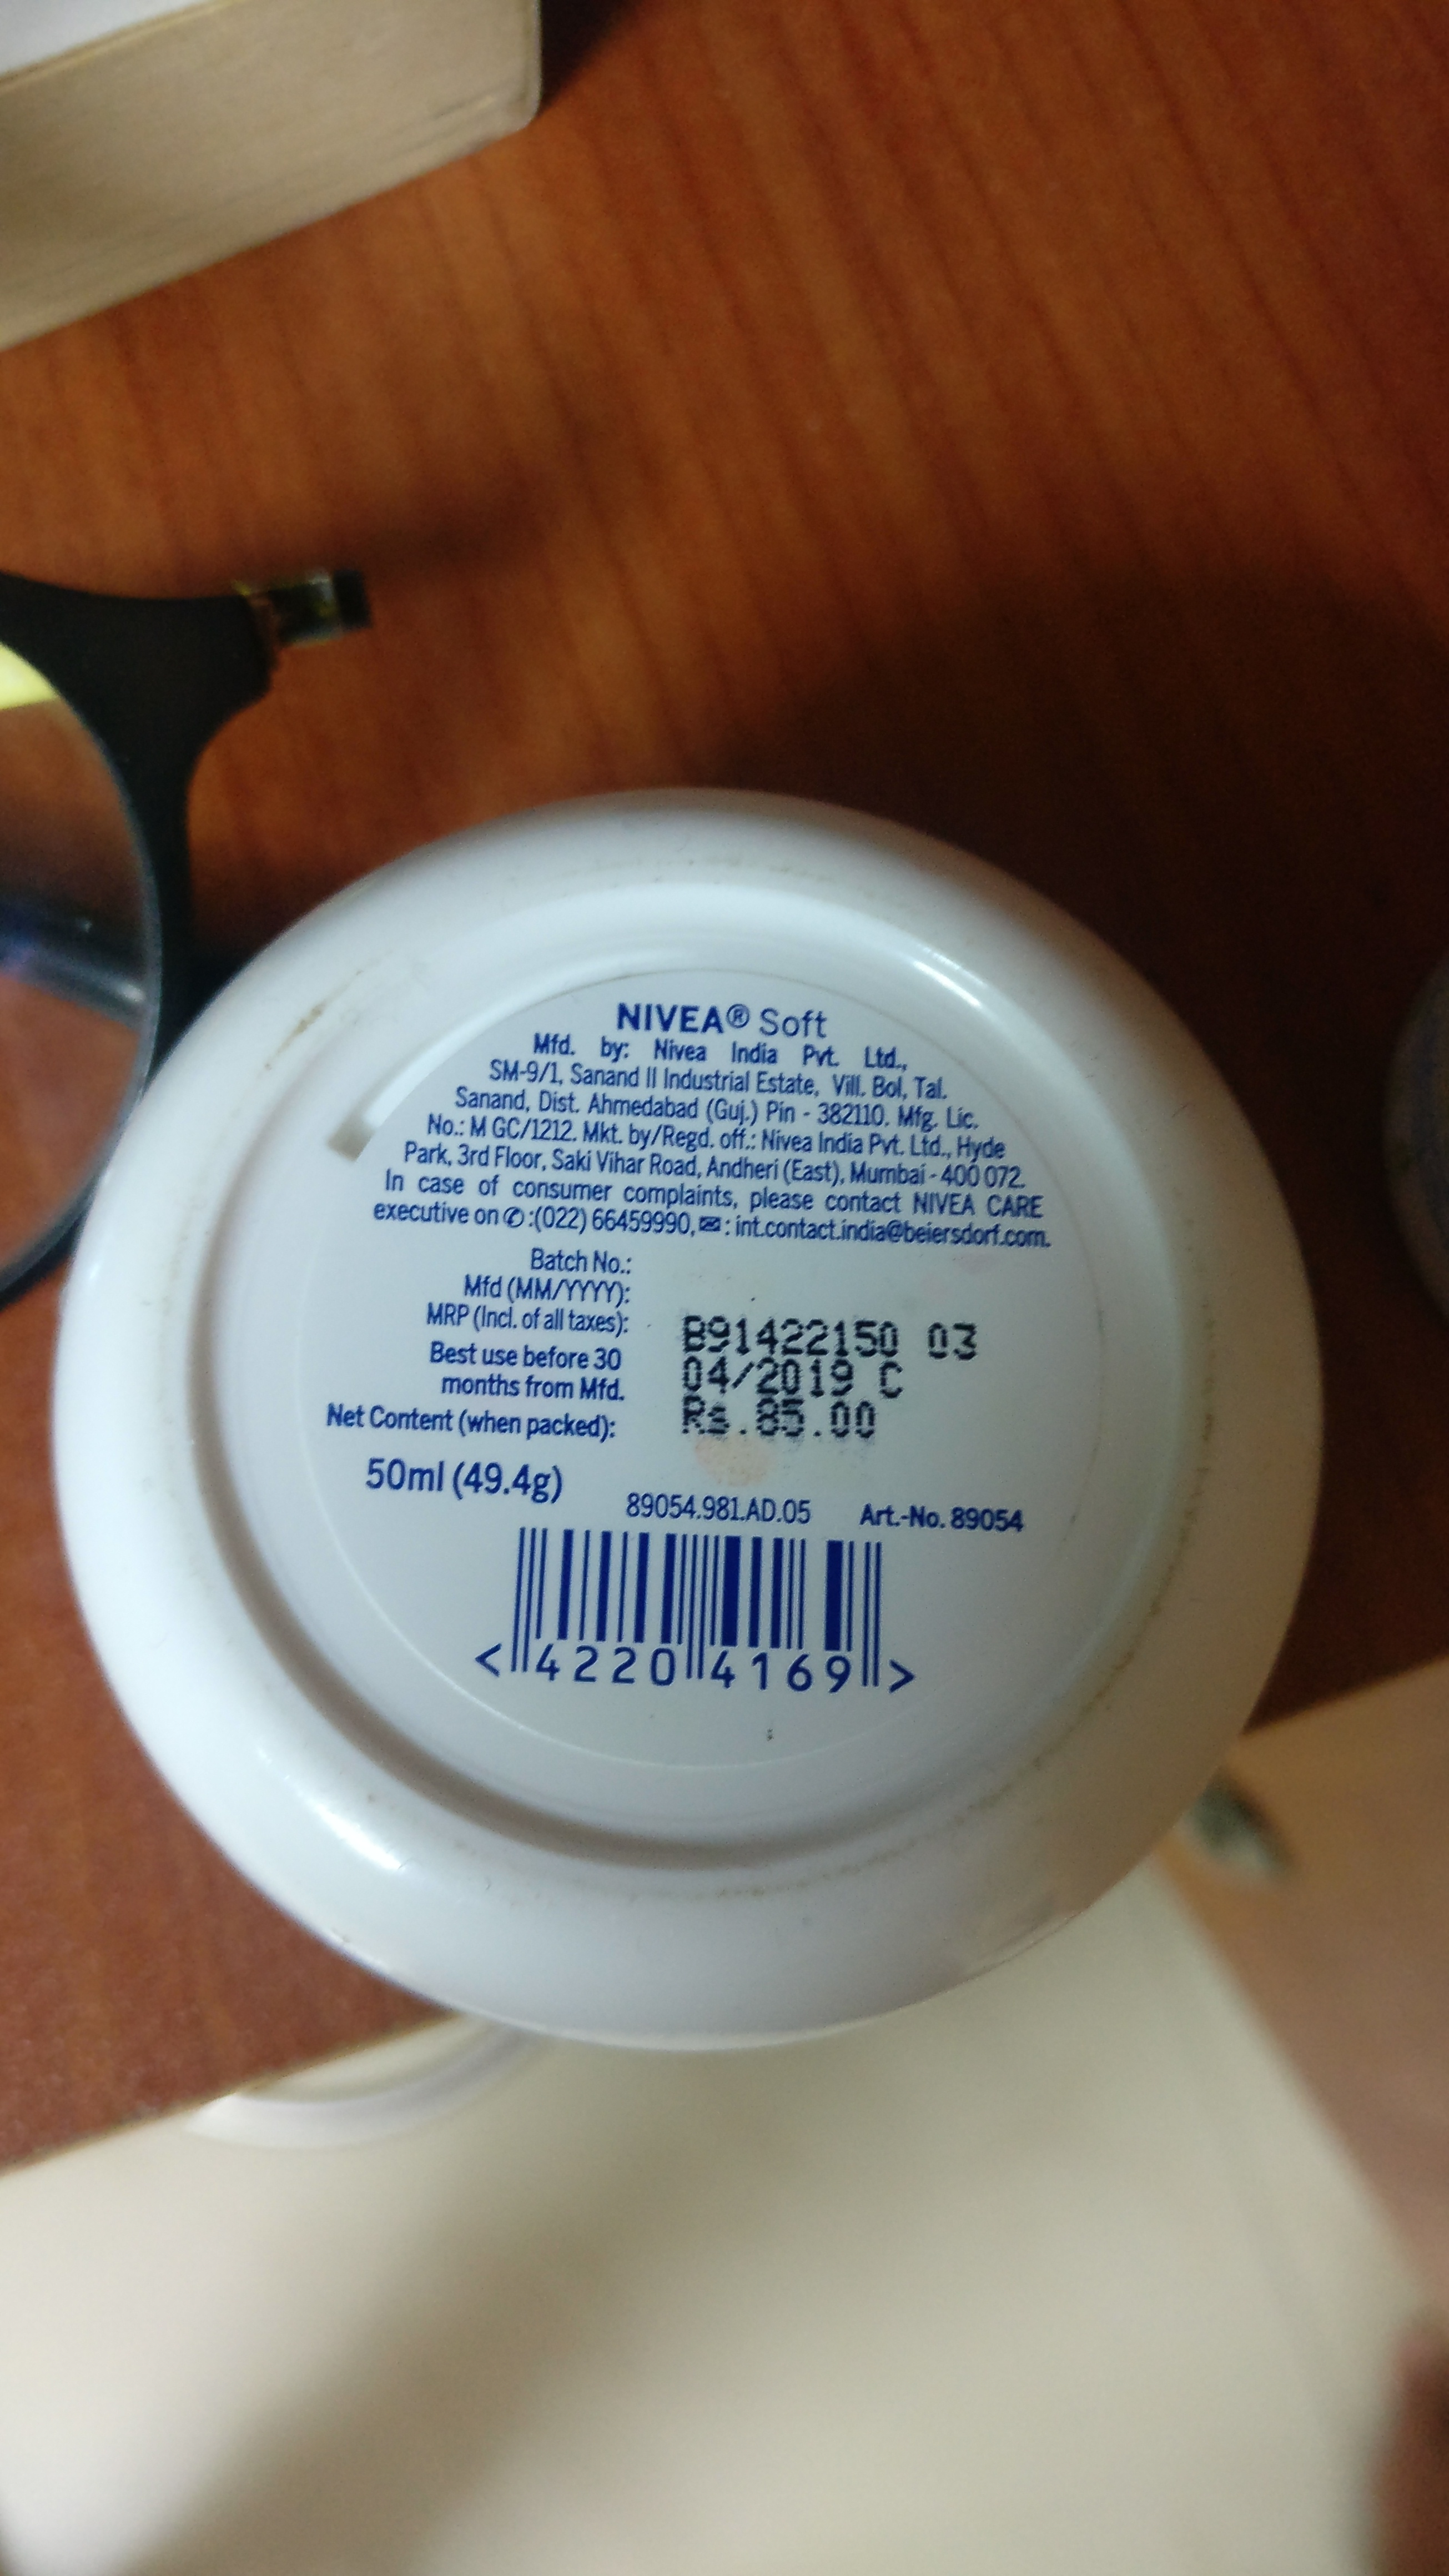barcode: (497, 1502, 906, 1723)
